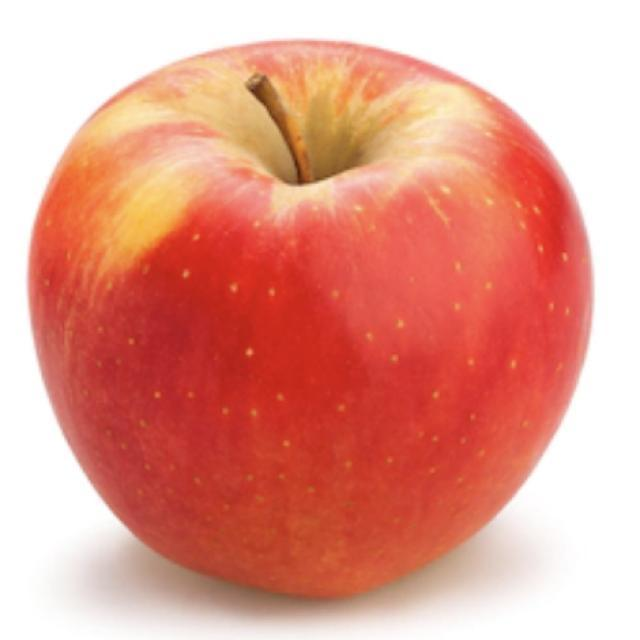Apple: (26, 37, 594, 600)
